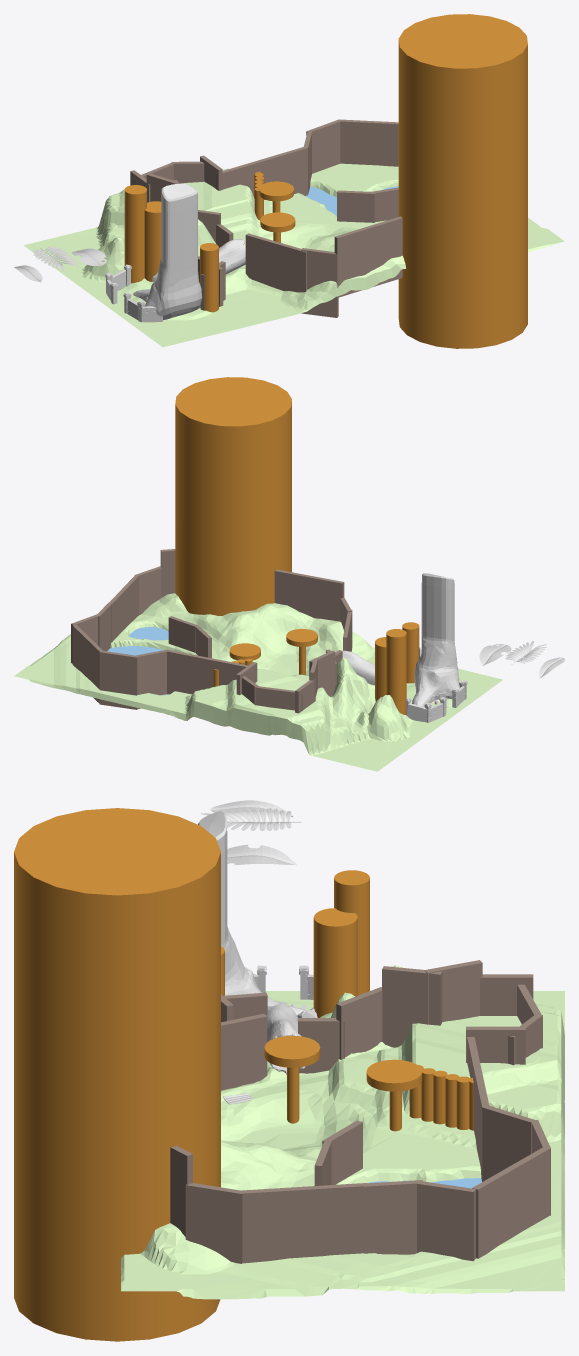
The model's file is NIVEL.fbx.
3 renders of one model, top to bottom at view 1: azimuth 30°, elevation 25°; view 2: azimuth 150°, elevation 25°; view 3: azimuth 270°, elevation 25°, orthographic. The views are drawn at different scales.
Visible parts, largest first — view 1: Arbol_1, default, ArbolCasa, Muro__13_, Muro__14_, Muro__6__1, Muro__4__1, Arbol__2_, Muro__15_, Muro__7__1, Arbol__4_, Muros (+12 smaller); view 2: default, Arbol_1, ArbolCasa, Muro__13_, Muro__4__1, Muro__7__1, Arbol__2_, Muro__5__1, Muro__6__1, Muro__9_, Muros, Muro__10_ (+12 smaller); view 3: Arbol_1, default, Muro__9_, Muro__6__1, Arbol__4_, Muro__8__1, Muro__3__1, Muro__12_, Muro__10_, Muro__14_, Muro__5__1, ArbolCasa (+23 smaller).
Boxes of the visible parts, x1,y1,x2,y2 form: Arbol_1: (398,14,527,348); default: (24,163,564,347); ArbolCasa: (133,183,202,320); Muro__13_: (334,216,402,297); Muro__14_: (245,233,306,292); Muro__6__1: (340,119,398,166); Muro__4__1: (216,147,307,199); Arbol__2_: (124,185,146,283); Muro__15_: (301,248,338,317); Muro__7__1: (306,119,341,173); Arbol__4_: (144,201,161,281); Muros: (105,264,162,322); default: (14,593,502,771); Arbol_1: (175,377,291,615); ArbolCasa: (412,573,459,706); Muro__13_: (274,569,344,621); Muro__4__1: (167,649,256,694); Muro__7__1: (99,651,137,709); Arbol__2_: (386,629,406,714); Muro__5__1: (136,649,168,709); Muro__6__1: (72,624,103,703); Muro__9_: (109,575,138,641); Muros: (406,680,467,722); Muro__10_: (135,566,161,615); Arbol_1: (14,808,220,1341); default: (121,965,564,1299); Muro__9_: (242,1183,367,1263); Muro__6__1: (472,1146,549,1258); Arbol__4_: (313,908,357,1017); Muro__8__1: (417,1181,475,1261); Muro__3__1: (382,966,442,1047); Muro__12_: (363,1180,422,1254); Muro__10_: (185,1183,244,1263); Muro__14_: (221,1013,267,1090); Muro__5__1: (482,1105,534,1181); ArbolCasa: (198,811,306,1015).
Bounding box in the file's own units: 59268 × 31476 × 35233.
